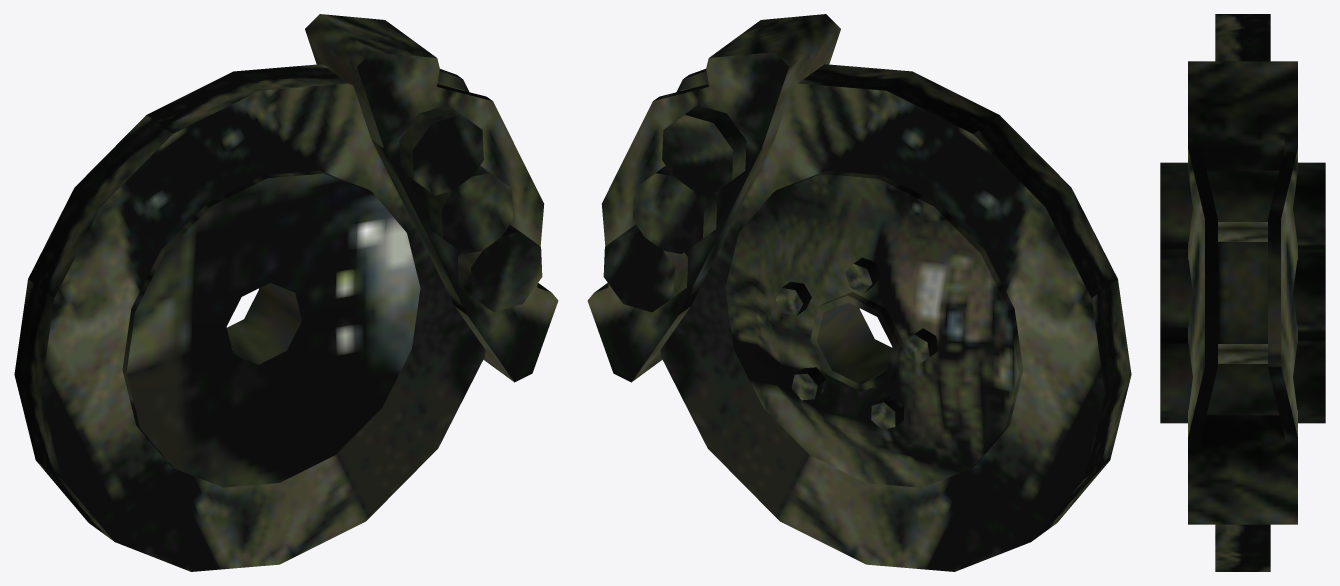
Rendered from slime1.ico.obj.
The picture shows the model from 3 angles, left to right: view 1: azimuth 30°, elevation 25°; view 2: azimuth 150°, elevation 25°; view 3: azimuth 270°, elevation 25°; orthographic projection. The views are drawn at different scales.
Size of the model in its own units: 4.43 by 4.21 by 1.19.
